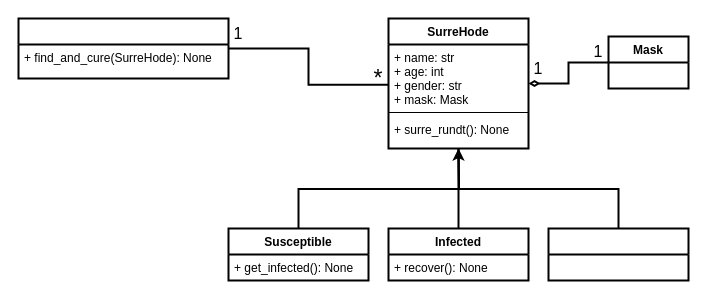
Some shapes in this 706 by 300 pixel diagram are drawn without their labels. Each missing label, with the box of its shape:
Recovered: (547, 227, 689, 281)
Sykebil: (17, 17, 229, 79)
